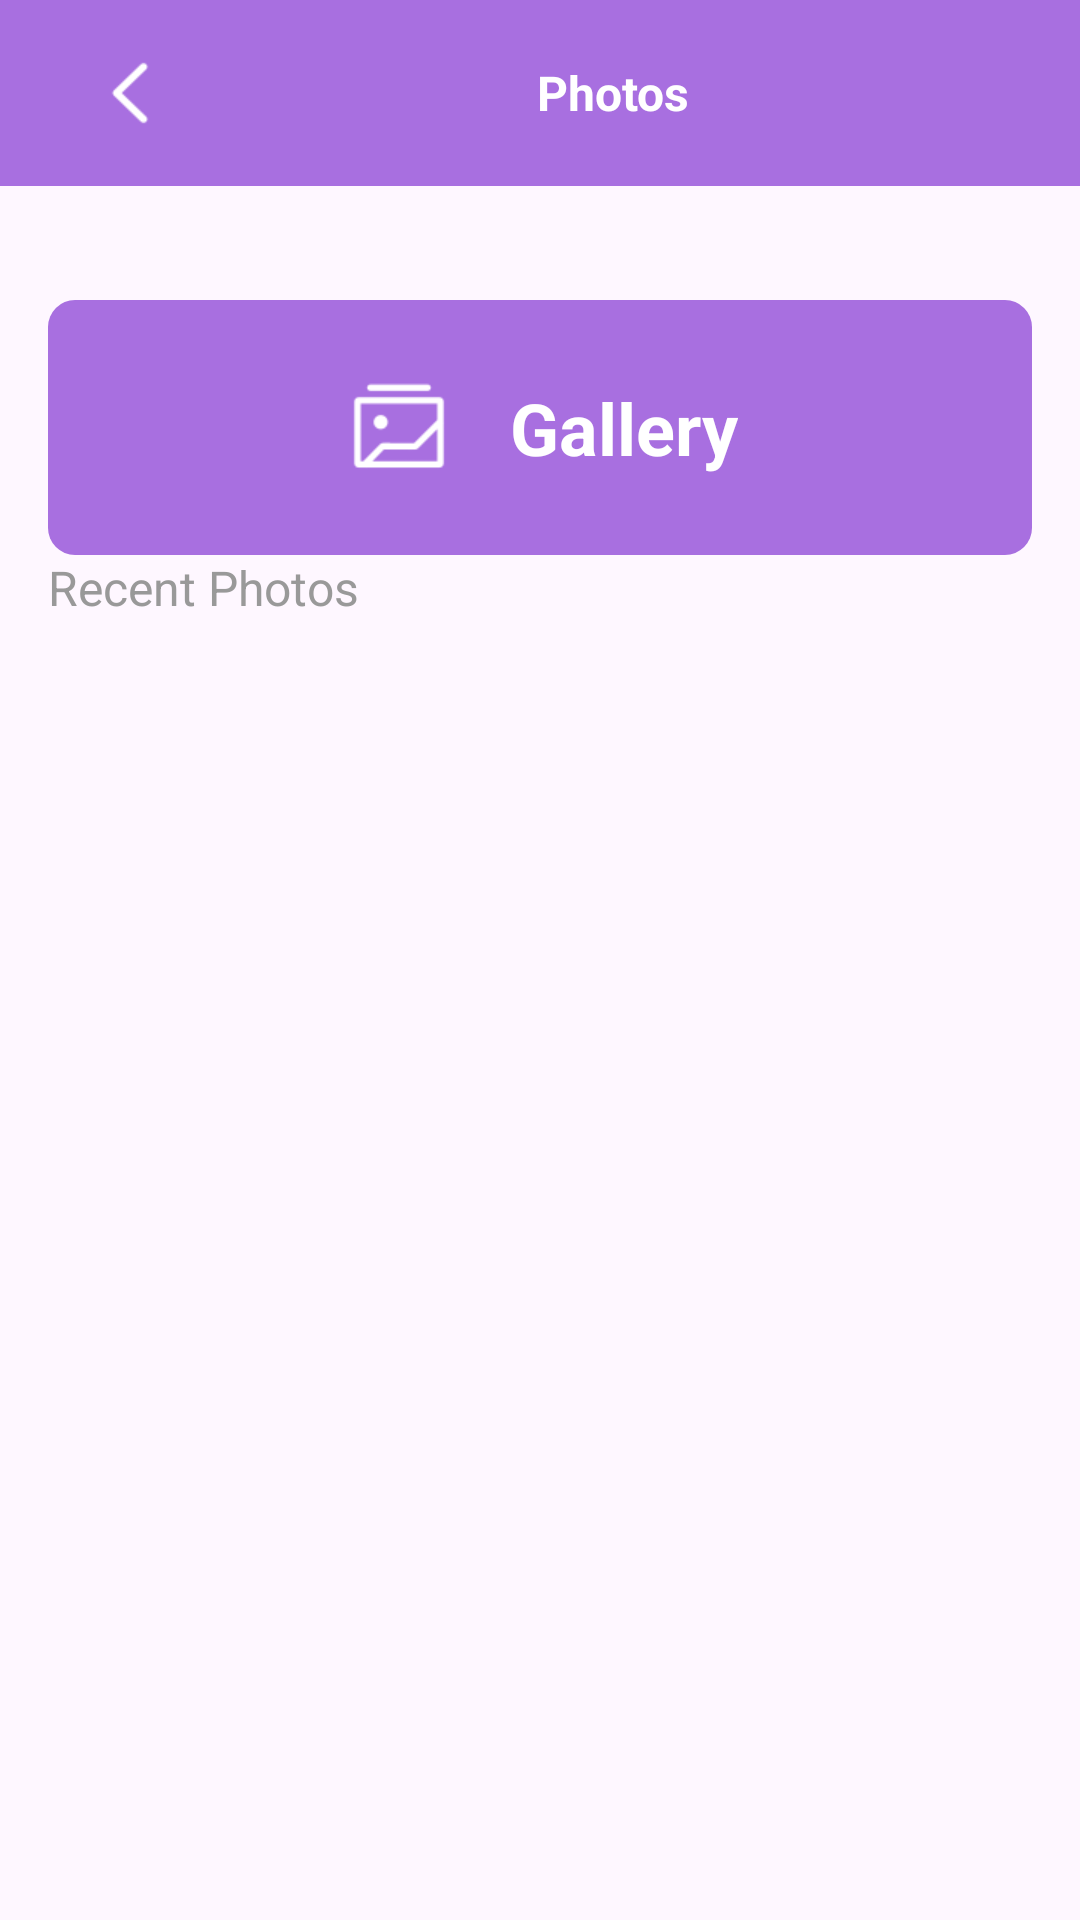

Icons on this 1080 x 1920 Android screen, each with its box as bbox=(x1, y1, x2, y2):
back: bbox=(112, 63, 148, 123)
